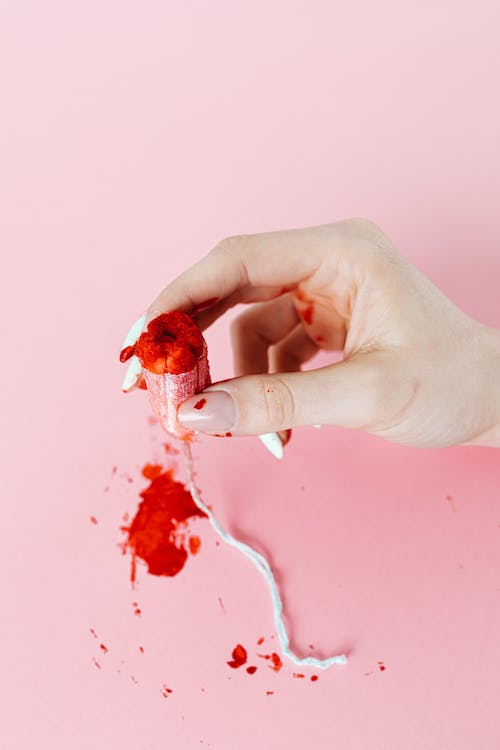blood: (86, 412, 387, 702), (116, 277, 329, 450), (133, 308, 212, 445)
